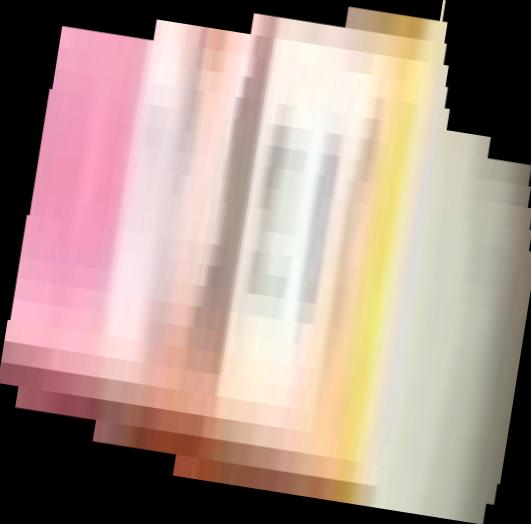flat: (1, 1, 531, 524)
